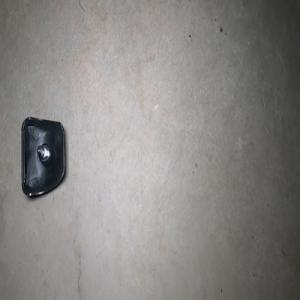LuggagePart: (20, 115, 66, 199)
